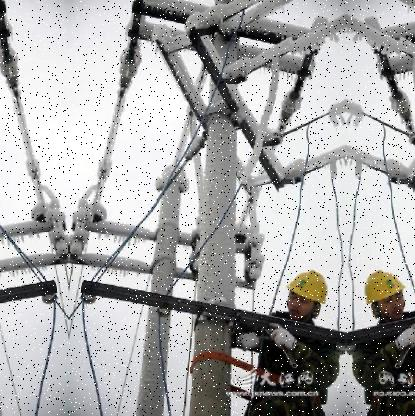helmet: (278, 263, 329, 320), (362, 263, 413, 320)
